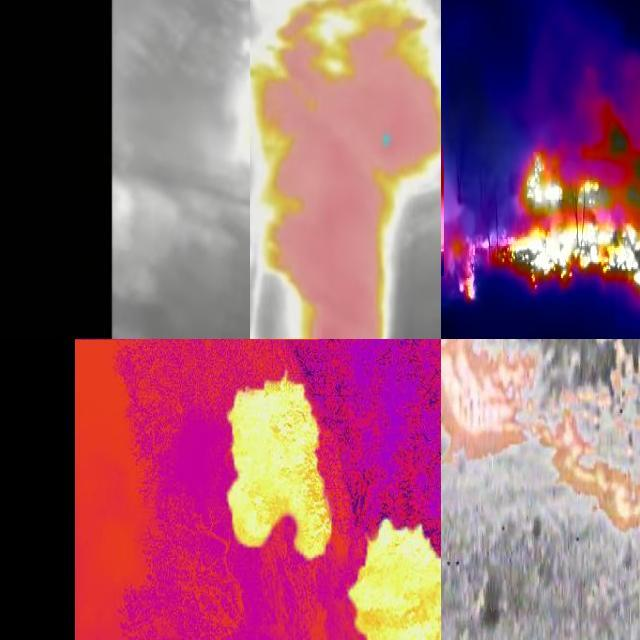fire: (249, 1, 442, 340), (458, 124, 640, 303), (207, 366, 346, 568), (537, 340, 640, 532), (328, 483, 442, 640), (442, 340, 541, 470)
